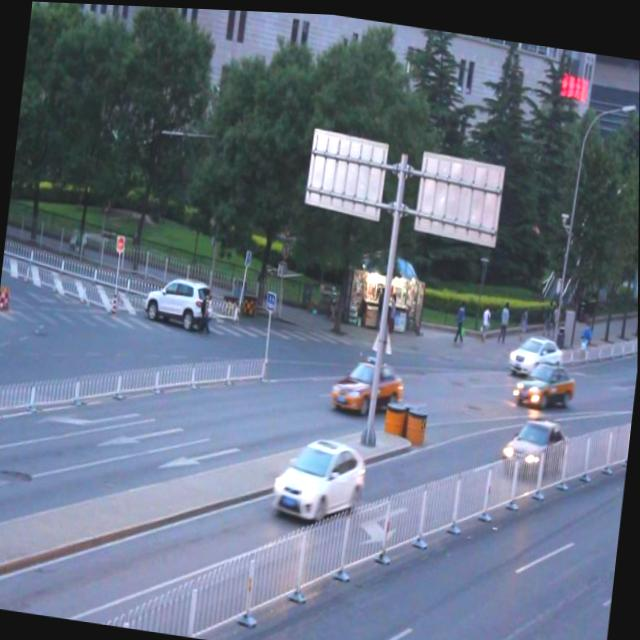car: (271, 425, 368, 521), (331, 347, 404, 418), (500, 410, 570, 476), (143, 269, 214, 330), (514, 351, 575, 405), (507, 325, 563, 369)
